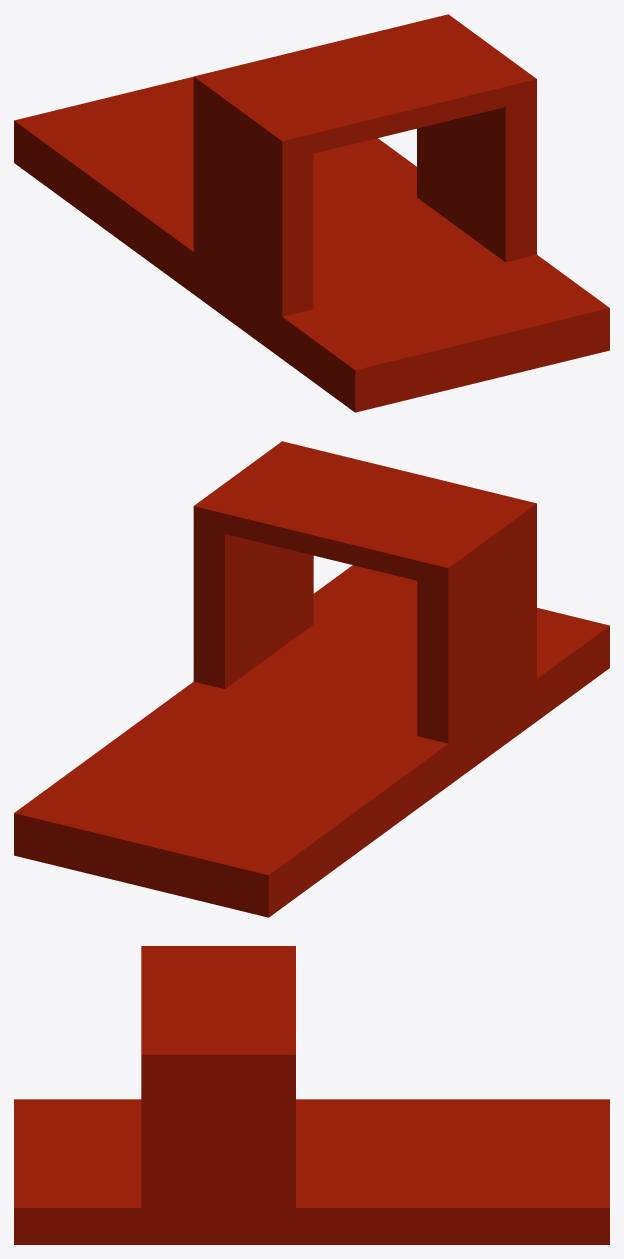
Rendered from sandal.fbx.
3 renders of one model, top to bottom at view 1: azimuth 30°, elevation 25°; view 2: azimuth 150°, elevation 25°; view 3: azimuth 270°, elevation 25°, orthographic. The views are drawn at different scales.
Parts seen in each view (by area): view 1: sandal; view 2: sandal; view 3: sandal.
Boxes of the visible parts, bbox=[...] form: sandal: bbox=[14, 14, 609, 412]; sandal: bbox=[14, 441, 609, 917]; sandal: bbox=[14, 946, 609, 1244].
Bounding box in the file's own units: 21.92 × 17.92 × 50.85.
1 material, 1 textured.
